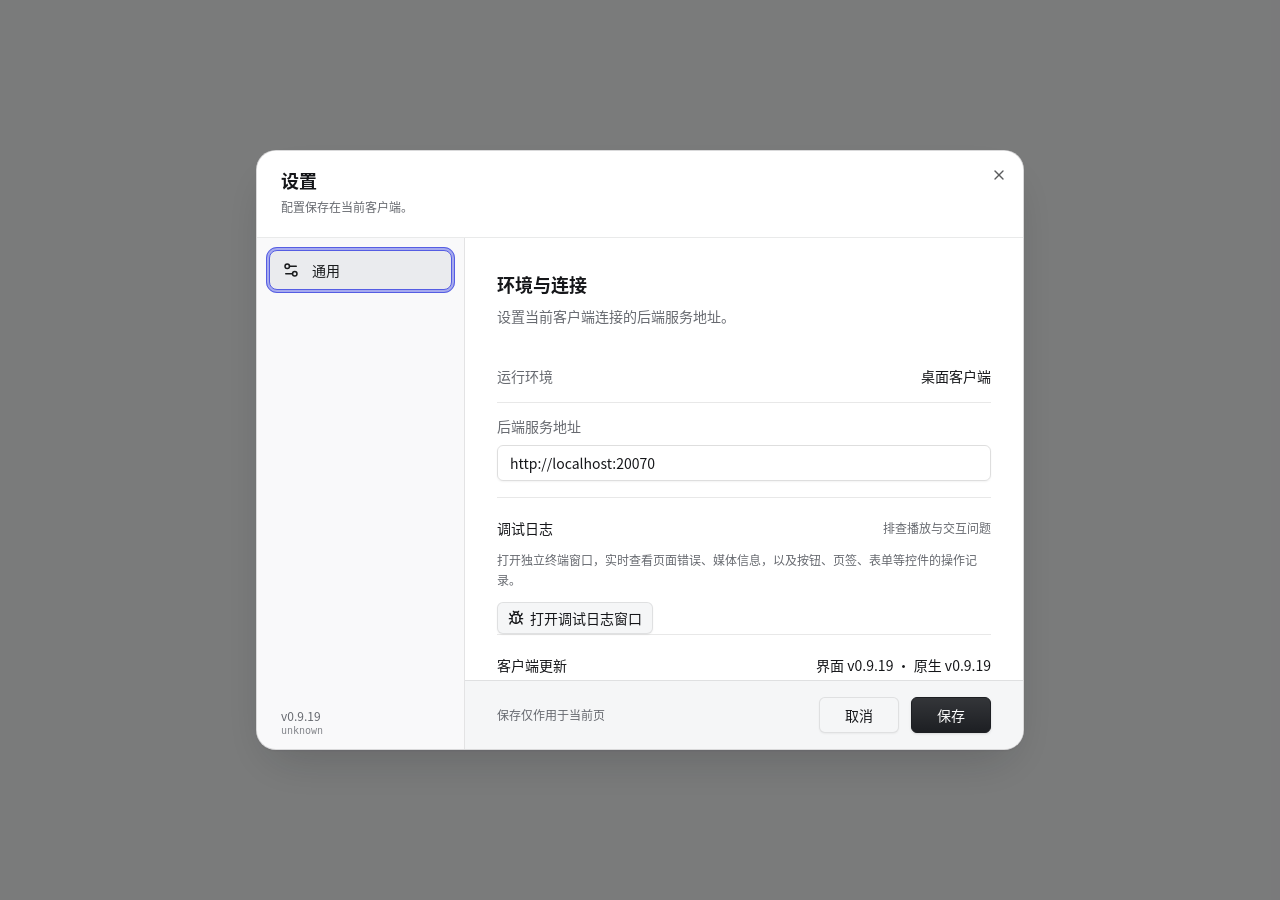
Test: 设置按钮打开调试日志窗口
Click the button "打开调试日志窗口".
click(575, 618)  # box [497,602,653,634]
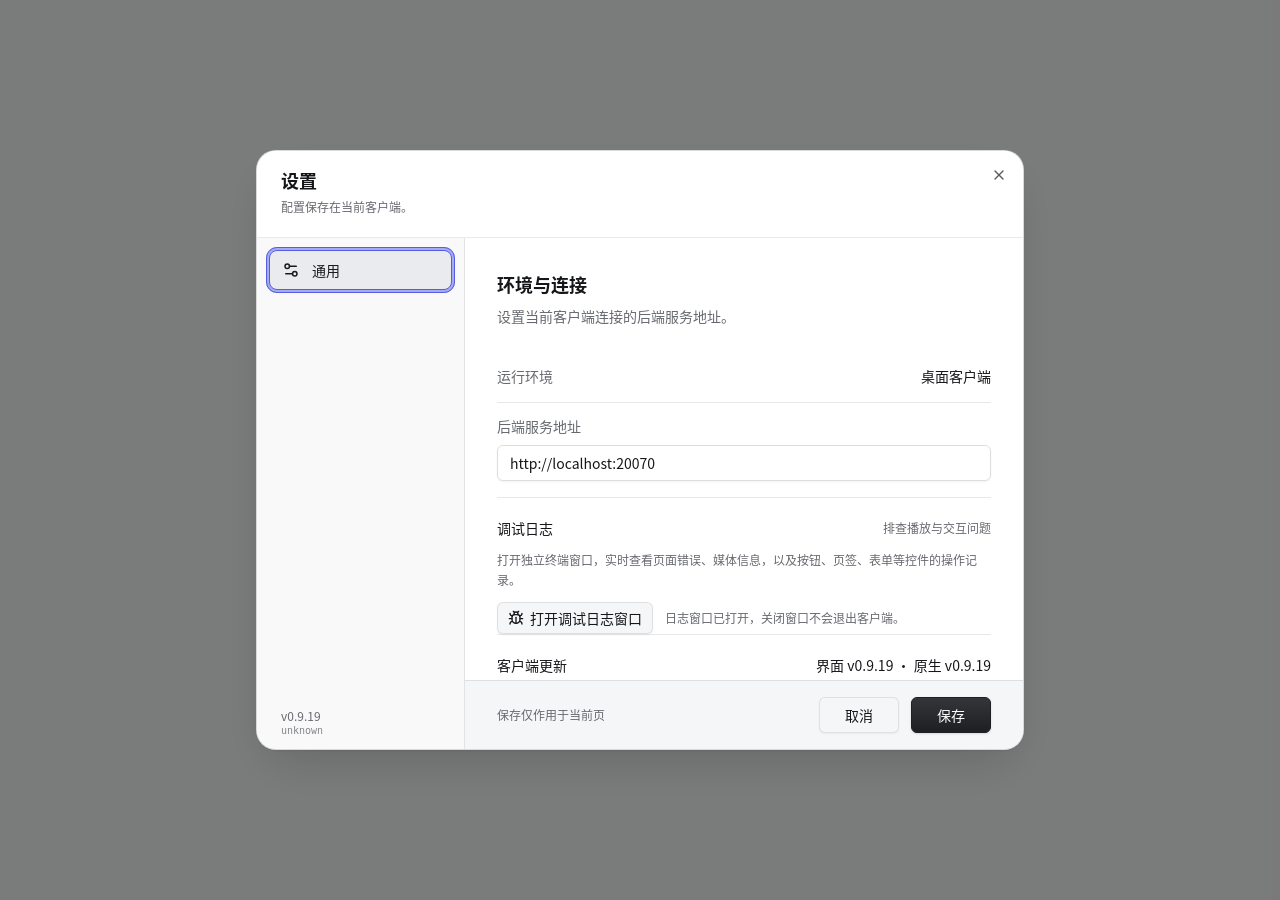
Now the text "日志窗口已打开，关闭窗口不会退出客户端。" is shown, box [665,610,905,626]
